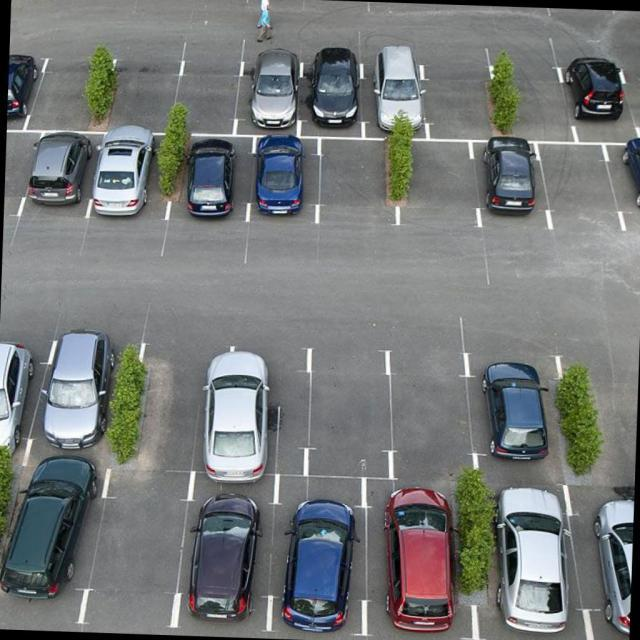car: (356, 476, 469, 630), (266, 475, 368, 626), (476, 488, 574, 640), (0, 474, 91, 614), (188, 476, 274, 624), (144, 341, 232, 472), (466, 359, 556, 475), (41, 337, 123, 458), (574, 486, 634, 640), (226, 351, 306, 466), (95, 131, 175, 227), (176, 136, 250, 228), (248, 139, 318, 229), (568, 55, 640, 138), (357, 48, 420, 142), (296, 54, 366, 134), (26, 126, 87, 216), (234, 51, 296, 133), (0, 334, 39, 464), (481, 138, 534, 230), (612, 144, 640, 234), (7, 52, 36, 128)
free: (85, 469, 182, 620), (310, 353, 389, 478), (393, 352, 464, 477), (575, 356, 638, 488), (309, 139, 395, 229), (402, 139, 475, 237), (490, 57, 569, 140), (420, 59, 494, 142), (100, 56, 178, 132), (537, 146, 607, 230), (174, 56, 237, 136), (36, 50, 102, 126), (3, 133, 26, 214)
